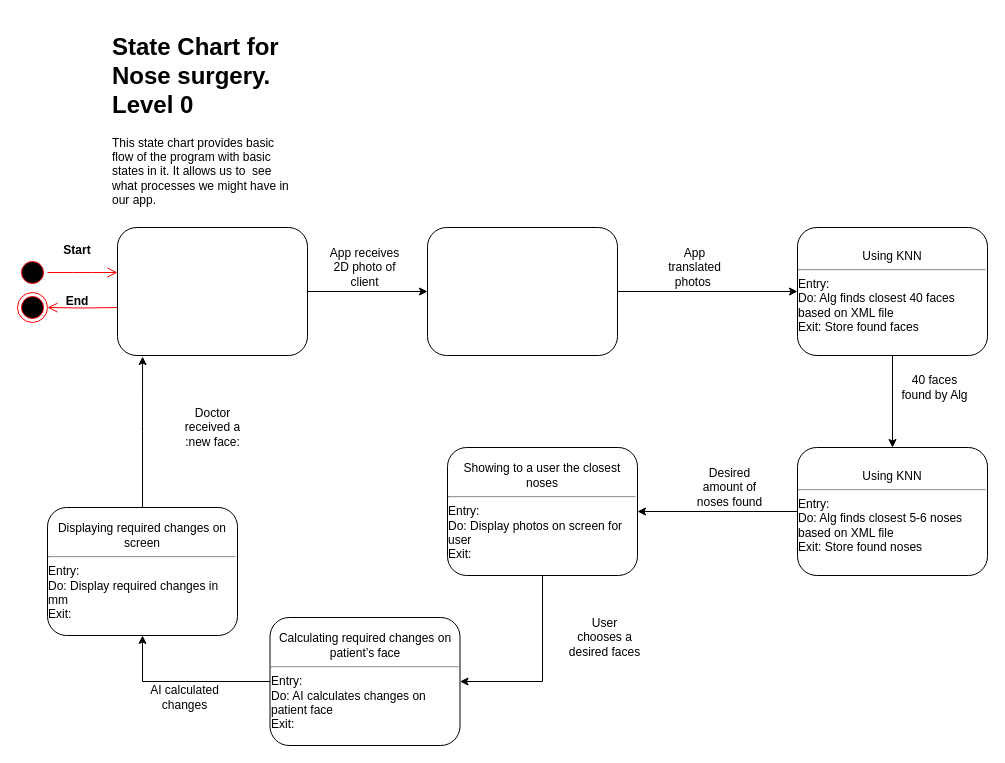
Some shapes in this 1005 by 763 pixel diagram are drawn without their labels. The shapes that lost their labels are listed below. From the top down, each one's centre as x and y in pixels, then its label:
At pixel 212 291: "Waiting for the command Entry: Do: Exit".
At pixel 522 291: "Translating 2D photo into XML Entry: Do: App process 2D photo Exit".
